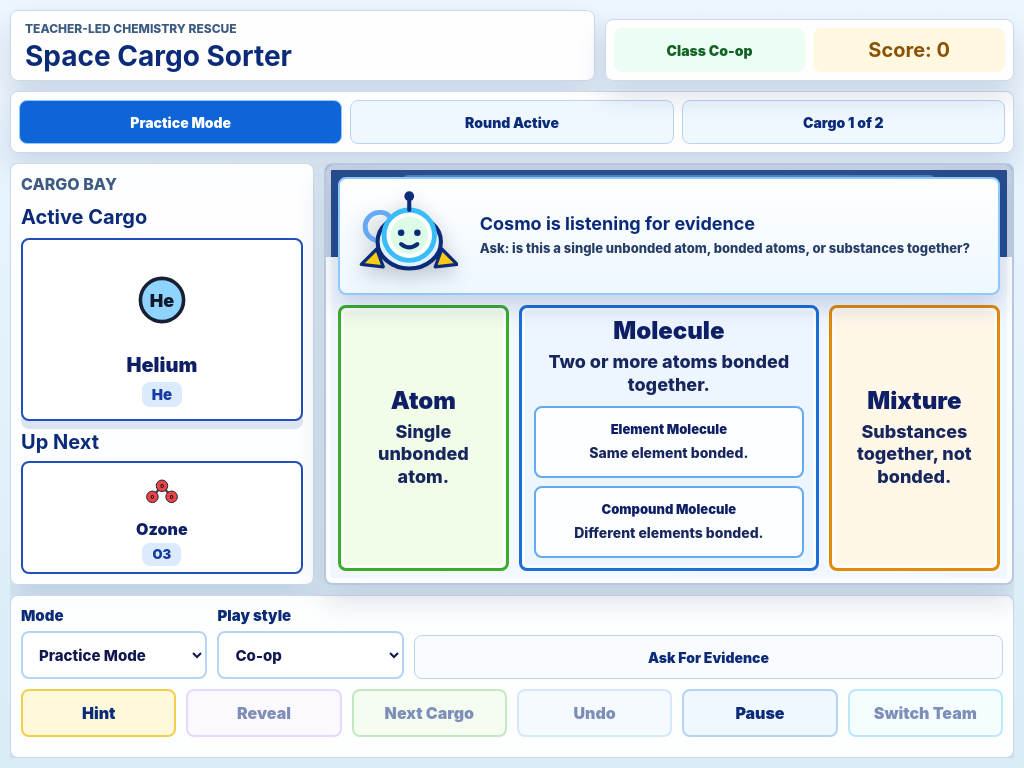
Test: MissionBoard › uses Practice Mode class check before reveal and advances only after the teacher moves next
This screenshot has width=1024, height=768.
Click the button with aria-label "Drop Helium into Atom".
click(423, 438)  # box [338,305,509,571]
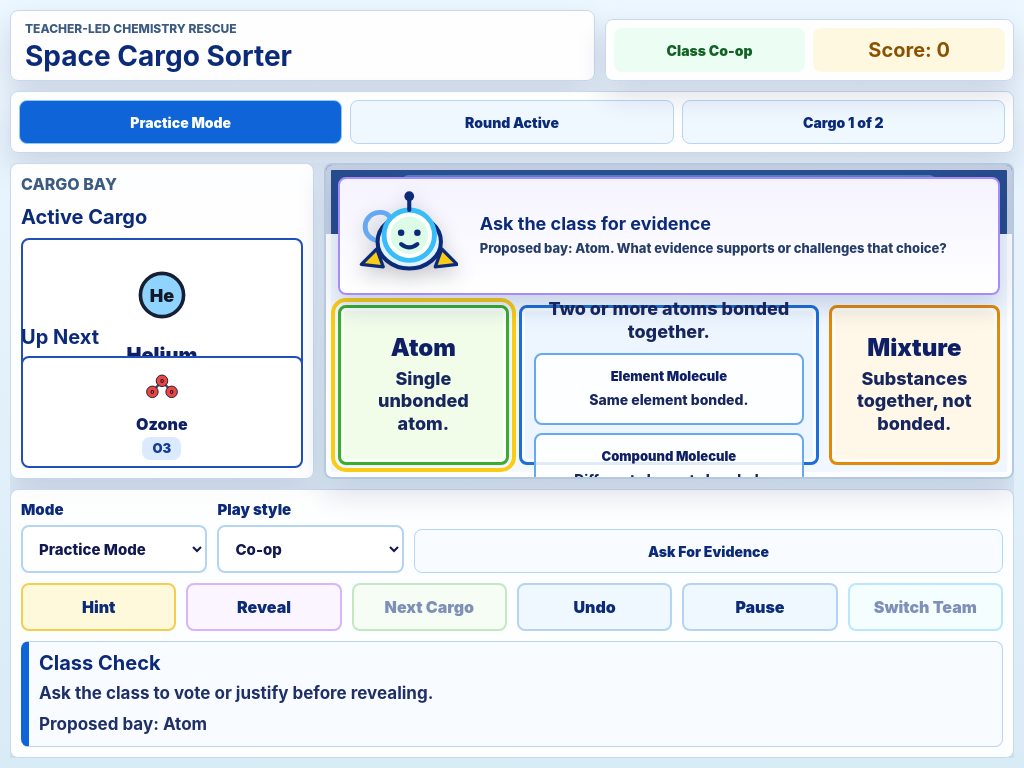
expect the heading "Class Check" is shown: met, box [39,651,160,675]
expect the text "Ask the class to vote or justify before revealing." is shown: met, box [39,683,433,703]
Click the button "Reveal".
click(264, 607)  # box [186,583,342,631]
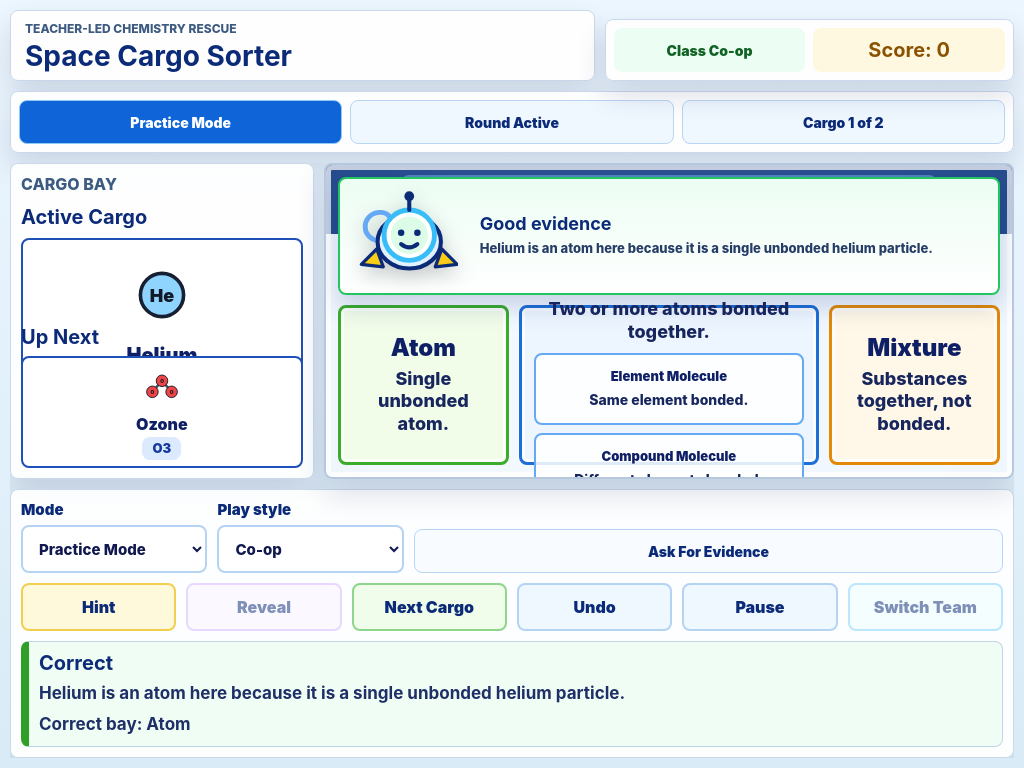
expect the text "Helium is an atom" below "Ask For Evidence" is shown: met, box [39,683,625,703]
expect the text "Correct bay: Atom" is shown: met, box [39,714,191,734]
Click the button "Next Cargo".
click(429, 607)  # box [352,583,507,631]
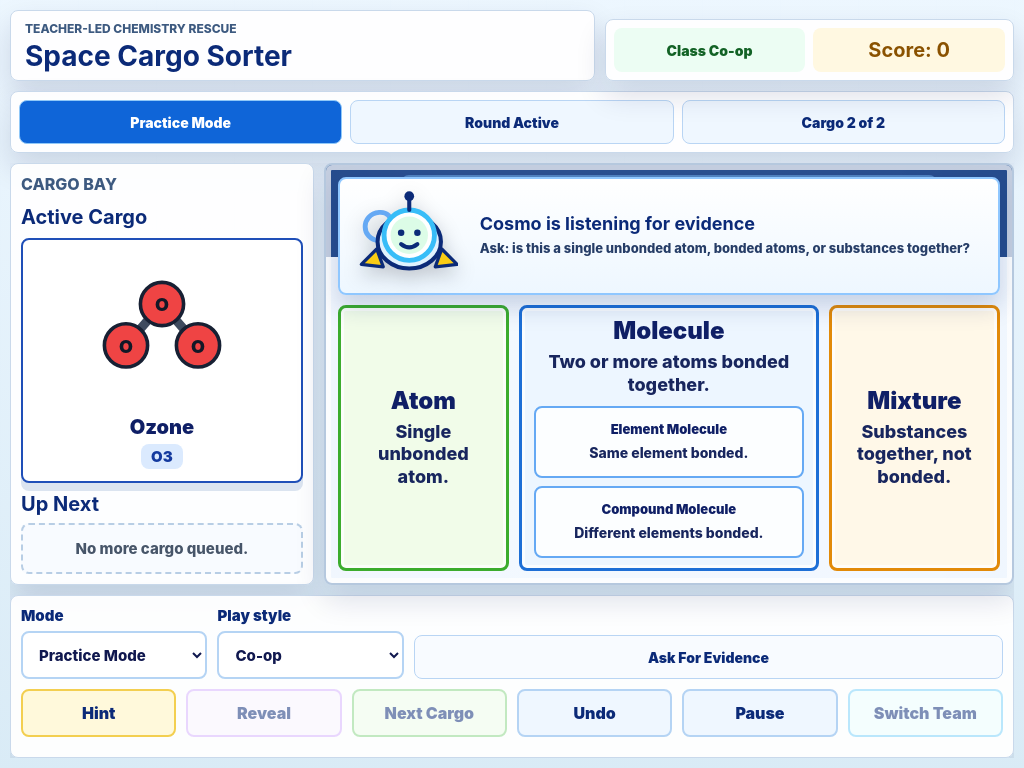
expect the text "O3" is shown: met, box [141,444,183,469]
